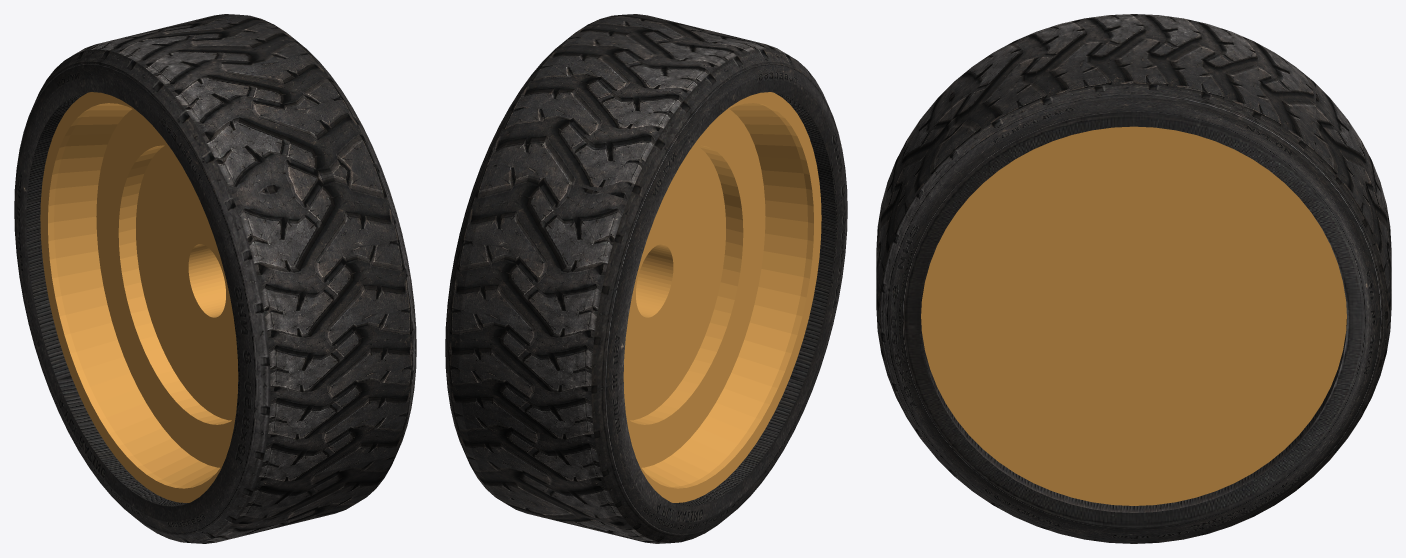
The model's file is RuedaHonda.fbx.
The picture shows the model from 3 angles, left to right: view 1: azimuth 30°, elevation 25°; view 2: azimuth 150°, elevation 25°; view 3: azimuth 270°, elevation 25°; orthographic projection.
Parts seen in each view (by area): view 1: Honda Mean Mower rueda.002; view 2: Honda Mean Mower rueda.002; view 3: Honda Mean Mower rueda.002.
Part boxes in pixels (x1=…): Honda Mean Mower rueda.002: x1=14, y1=14, x2=416, y2=543; Honda Mean Mower rueda.002: x1=445, y1=14, x2=847, y2=543; Honda Mean Mower rueda.002: x1=876, y1=14, x2=1391, y2=543.
Bounding box in the file's own units: 13.39 × 35.71 × 35.71.
2 materials, 1 textured.
